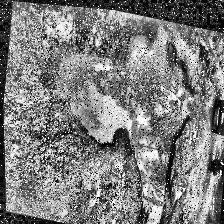pothole: (33, 2, 216, 224)
